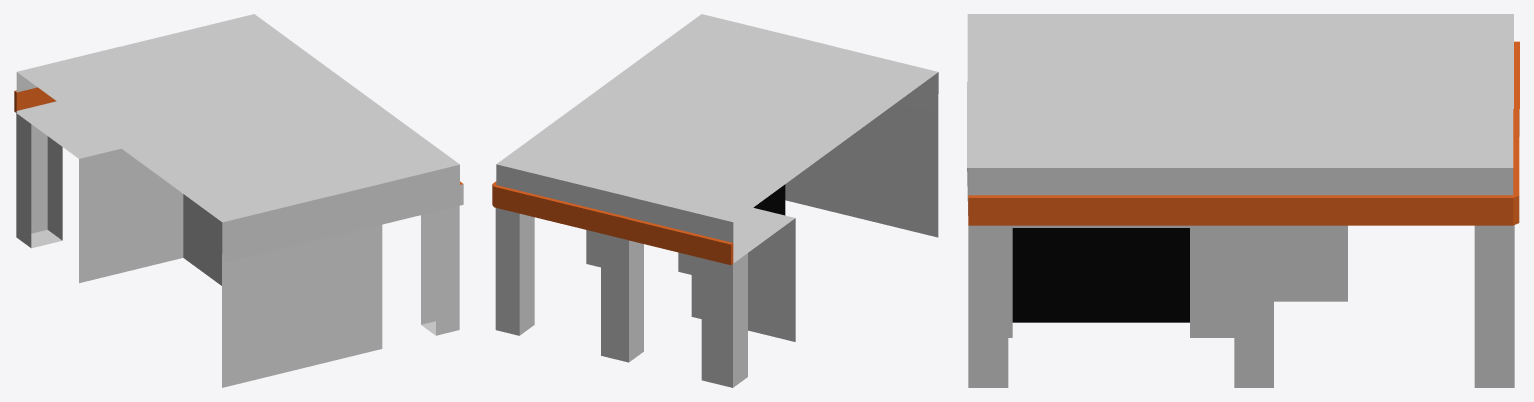
Rendered from Edificio-1.fbx.
3 views of the same model, side by side, from view 1: azimuth 30°, elevation 25°; view 2: azimuth 150°, elevation 25°; view 3: azimuth 270°, elevation 25° (orthographic). The views are drawn at different scales.
Parts seen in each view (by area): view 1: Plane; view 2: Plane; view 3: Plane.
Boxes of the visible parts, bbox=[...] form: Plane: bbox=[14, 14, 463, 387]; Plane: bbox=[492, 14, 938, 387]; Plane: bbox=[967, 14, 1519, 387].
Bounding box in the file's own units: 610 × 400 × 911.
